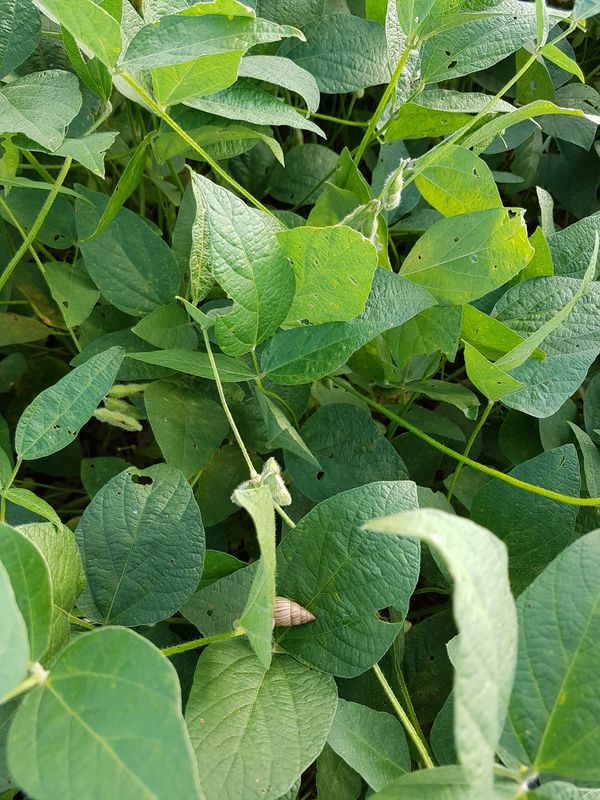Gastropoda: (253, 585, 322, 640)
